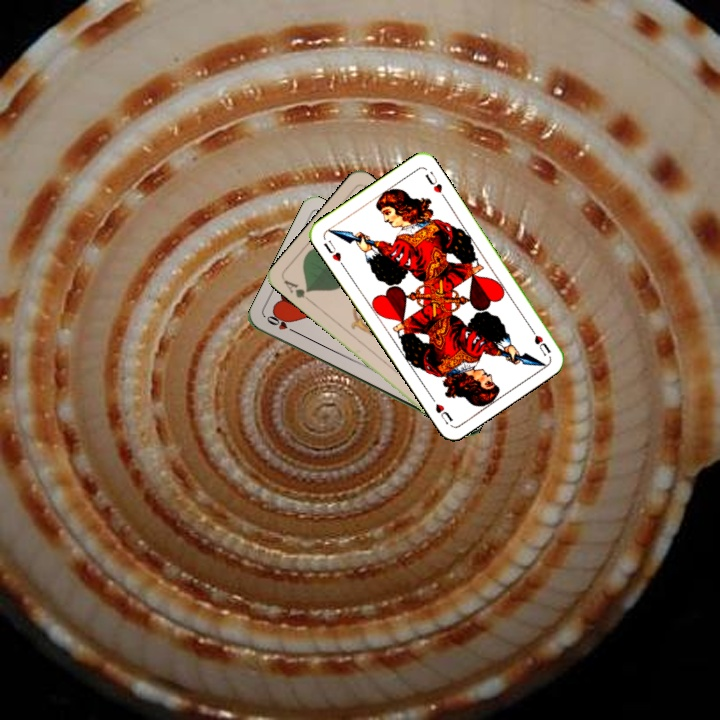GA: (279, 275, 315, 306)
HO: (262, 312, 300, 336)
HU: (525, 323, 553, 359), (319, 236, 347, 270)
